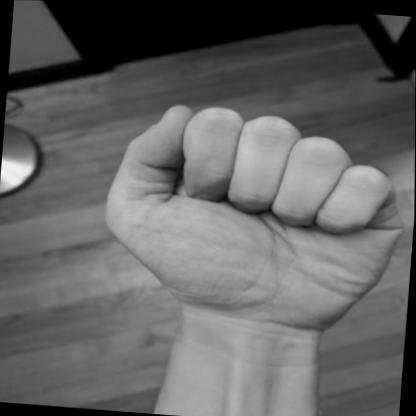A: (89, 90, 415, 346)
